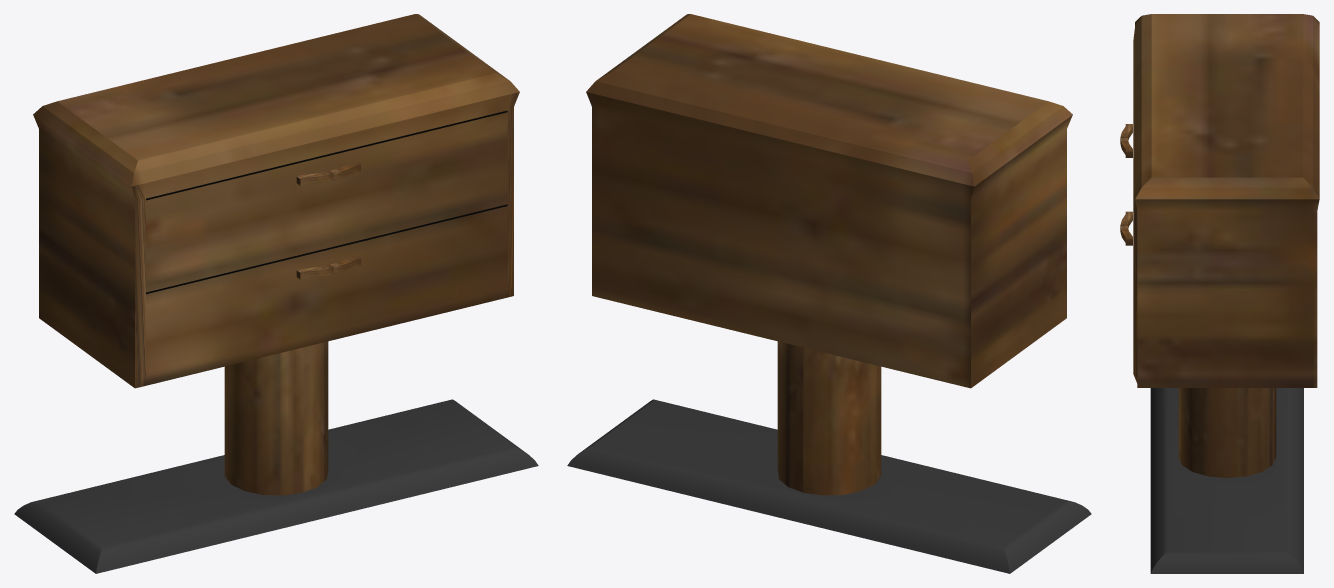
File: nightStandTextures.fbx
The picture shows the model from 3 angles, left to right: view 1: azimuth 30°, elevation 25°; view 2: azimuth 150°, elevation 25°; view 3: azimuth 270°, elevation 25°; orthographic projection. The views are drawn at different scales.
Parts seen in each view (by area): view 1: polySurface1, polySurface4, polySurface5, polySurface3, polySurface2; view 2: polySurface1, polySurface4, polySurface5; view 3: polySurface1, polySurface4, polySurface5, polySurface3, polySurface2.
Boxes of the visible parts, x1,y1,x2,y2 form: polySurface1: [33, 14, 519, 388]; polySurface4: [14, 399, 538, 573]; polySurface5: [224, 341, 328, 495]; polySurface3: [296, 255, 361, 279]; polySurface2: [296, 161, 361, 185]; polySurface1: [586, 14, 1072, 388]; polySurface4: [567, 399, 1091, 573]; polySurface5: [777, 341, 881, 495]; polySurface1: [1133, 14, 1319, 387]; polySurface4: [1150, 388, 1303, 573]; polySurface5: [1178, 388, 1276, 477]; polySurface3: [1120, 211, 1132, 245]; polySurface2: [1120, 124, 1132, 157].
Bounding box in the file's own units: 32.51 × 28.25 × 13.53.
